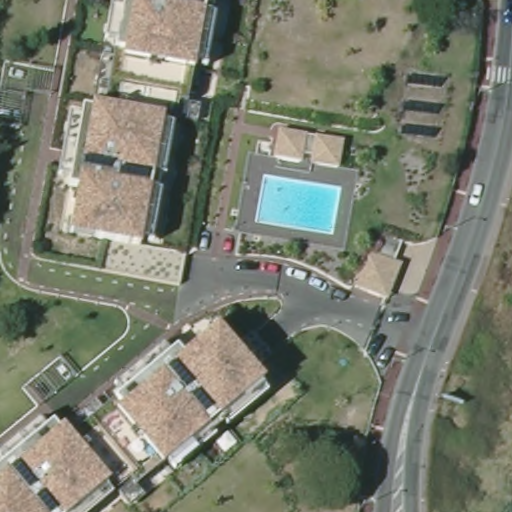pool: (255, 171, 342, 235)
